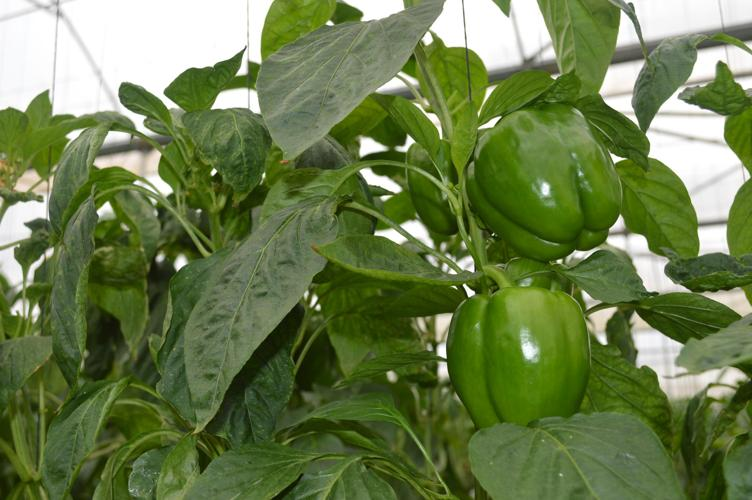BellPepper: (468, 104, 621, 257), (445, 288, 586, 421), (401, 141, 468, 237), (492, 257, 573, 294)
